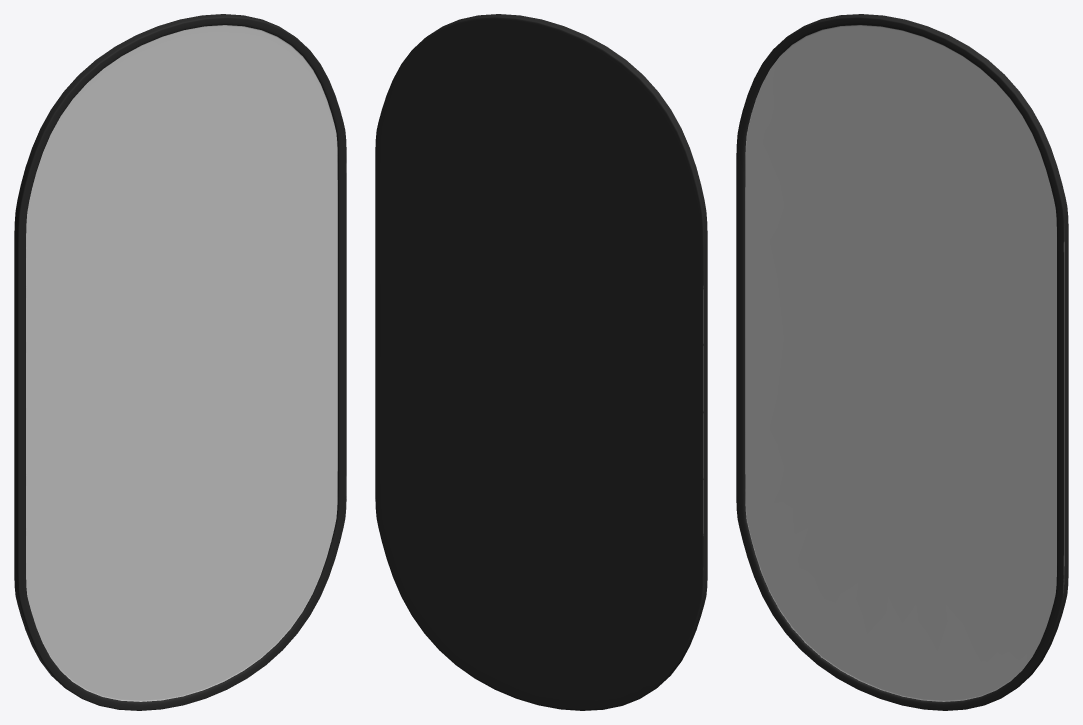
Rendered from Mirror_010.gltf.
3 renders of one model, left to right at view 1: azimuth 30°, elevation 25°; view 2: azimuth 150°, elevation 25°; view 3: azimuth 330°, elevation 25°, orthographic.
Parts seen in each view (by area): view 1: Mirror_010; view 2: Mirror_010; view 3: Mirror_010.
Boxes of the visible parts, <box> form: Mirror_010: <box>14,14,346,710</box>; Mirror_010: <box>375,14,707,710</box>; Mirror_010: <box>736,14,1068,710</box>.
Bounding box in the file's own units: 0.6095 × 1.21 × 0.015.
1 material, 1 textured.
